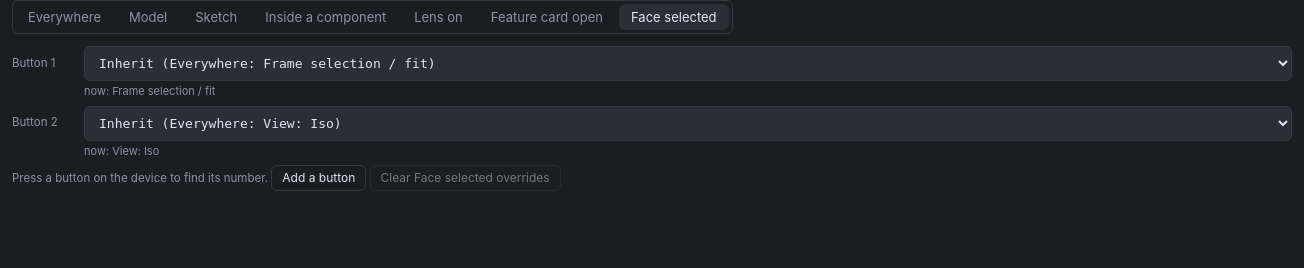
Scenario: 3D-mouse button editor › edits the global row and adds rows
Click the button "Everywhere": (64, 17) [16, 4, 113, 30]
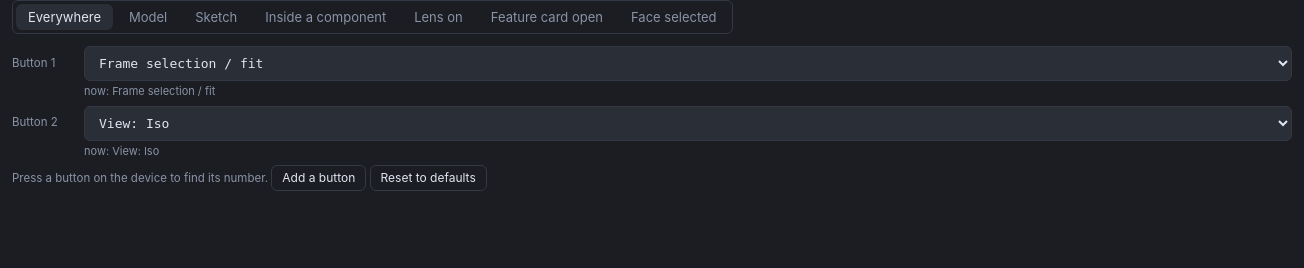
Select "Action ring (hold, point, release) · Space" in the dropdown named "Button 2 (Everywhere)": (688, 123) [84, 106, 1292, 140]
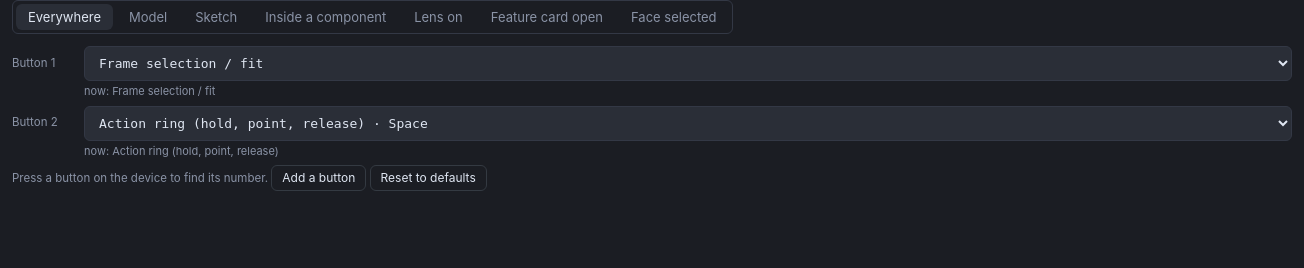
Click the button "Add a button": (319, 178) [271, 165, 366, 191]
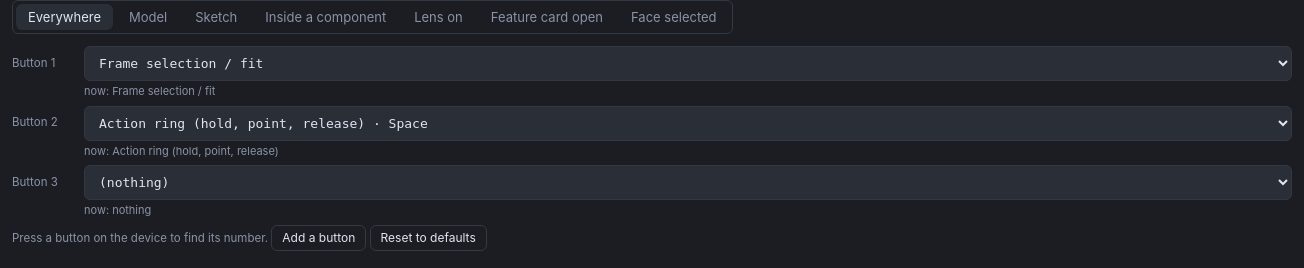
Expected: the dropdown named "Button 3 (Everywhere)" shows "(nothing)", [84, 165, 1292, 200]
